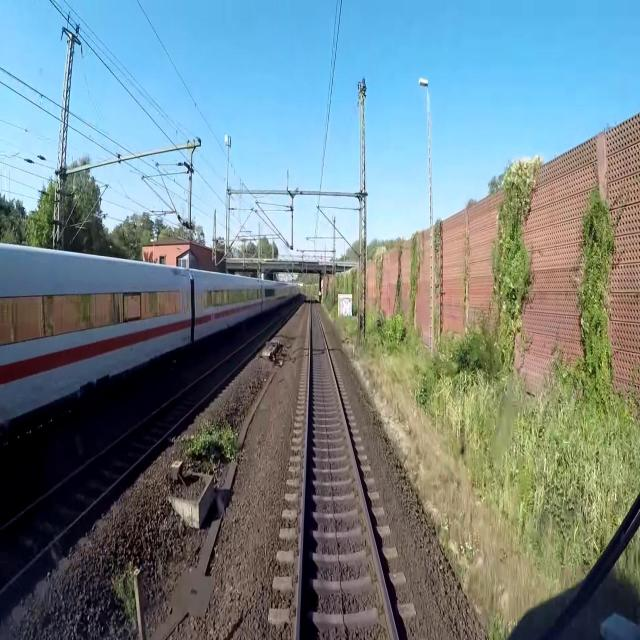rail-track: (0, 318, 281, 587), (300, 297, 395, 639)
